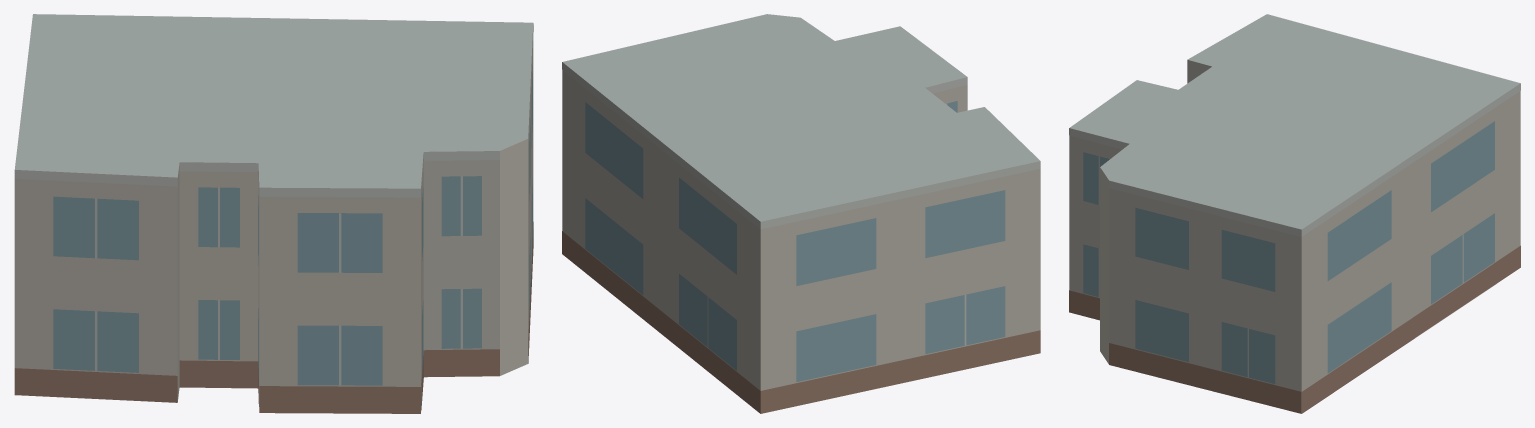
Rendered from survey-upis-33039647.glb.
3 views of the same model, side by side, from view 1: azimuth 30°, elevation 25°; view 2: azimuth 150°, elevation 25°; view 3: azimuth 270°, elevation 25° (orthographic). The views are drawn at different scales.
Parts seen in each view (by area): view 1: survey-upis-33039647.tmp; view 2: survey-upis-33039647.tmp; view 3: survey-upis-33039647.tmp.
Boxes of the visible parts, x1,y1,x2,y2 form: survey-upis-33039647.tmp: (14,14,533,413); survey-upis-33039647.tmp: (562,14,1040,413); survey-upis-33039647.tmp: (1069,14,1520,413).
Size of the model in its own units: 15.31 by 6.1 by 13.56.
